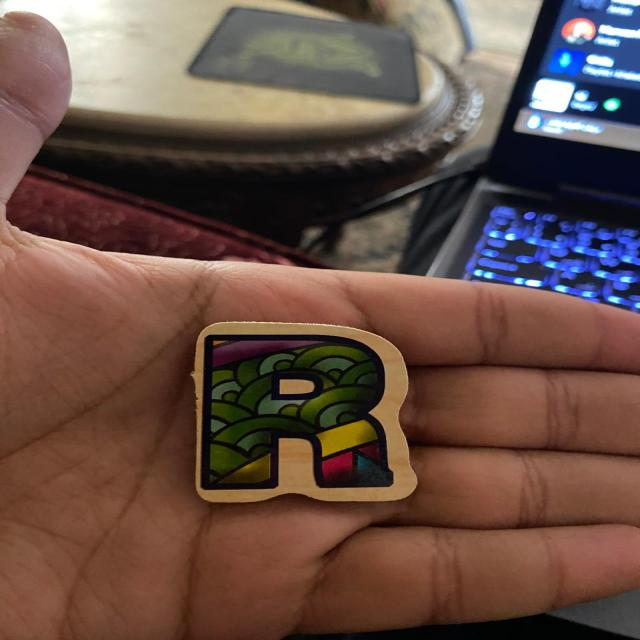R: (194, 323, 416, 502)
